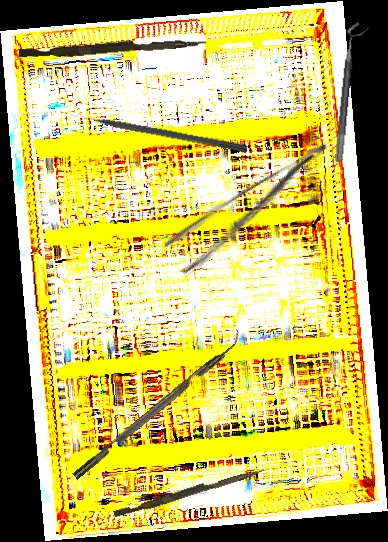Chopper: (65, 327, 248, 480)
Dressing Forceps: (161, 139, 347, 277)
Fixation Ring: (333, 21, 370, 164)
Pusher: (113, 463, 265, 521), (69, 108, 249, 154), (18, 32, 207, 63)
